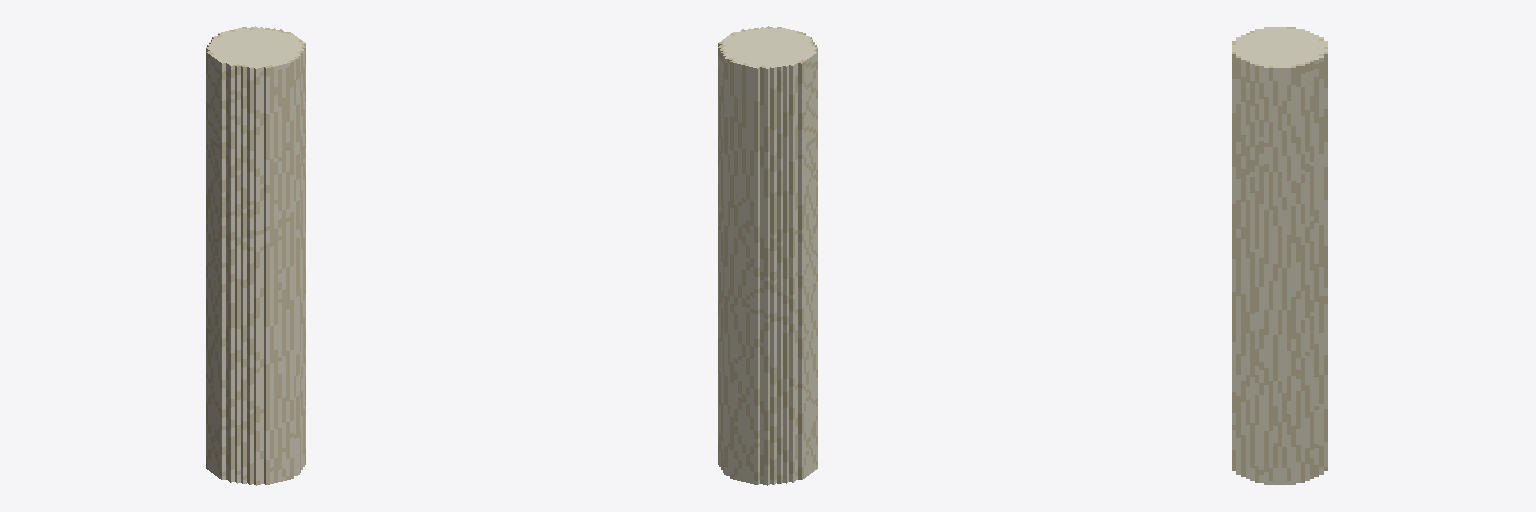
3 views of the same model, side by side, from view 1: azimuth 30°, elevation 25°; view 2: azimuth 150°, elevation 25°; view 3: azimuth 270°, elevation 25° (orthographic).
Visible parts, largest first — view 1: object 1; view 2: object 1; view 3: object 1.
Part boxes in pixels (x1,y1,x2,y2): object 1: (206,26,305,485); object 1: (718,26,817,485); object 1: (1232,27,1327,484).
Bounding box in the file's own units: 2.1 × 10 × 2.1.
1 materials, 1 textured.